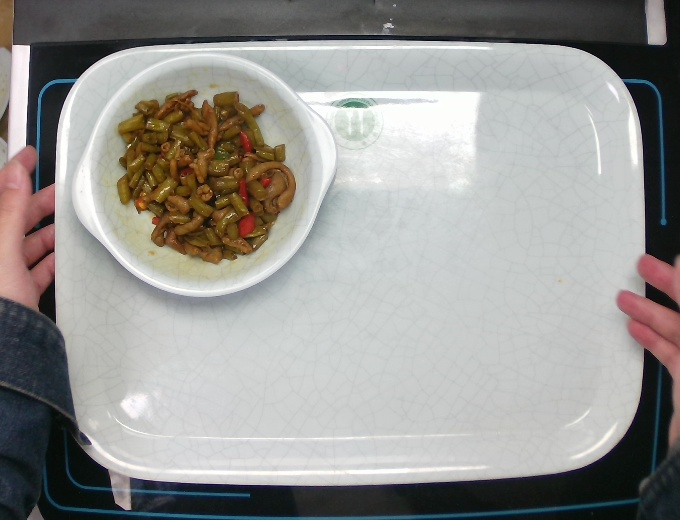JYsf-Shuang_Er_Wan: (70, 55, 339, 298)
